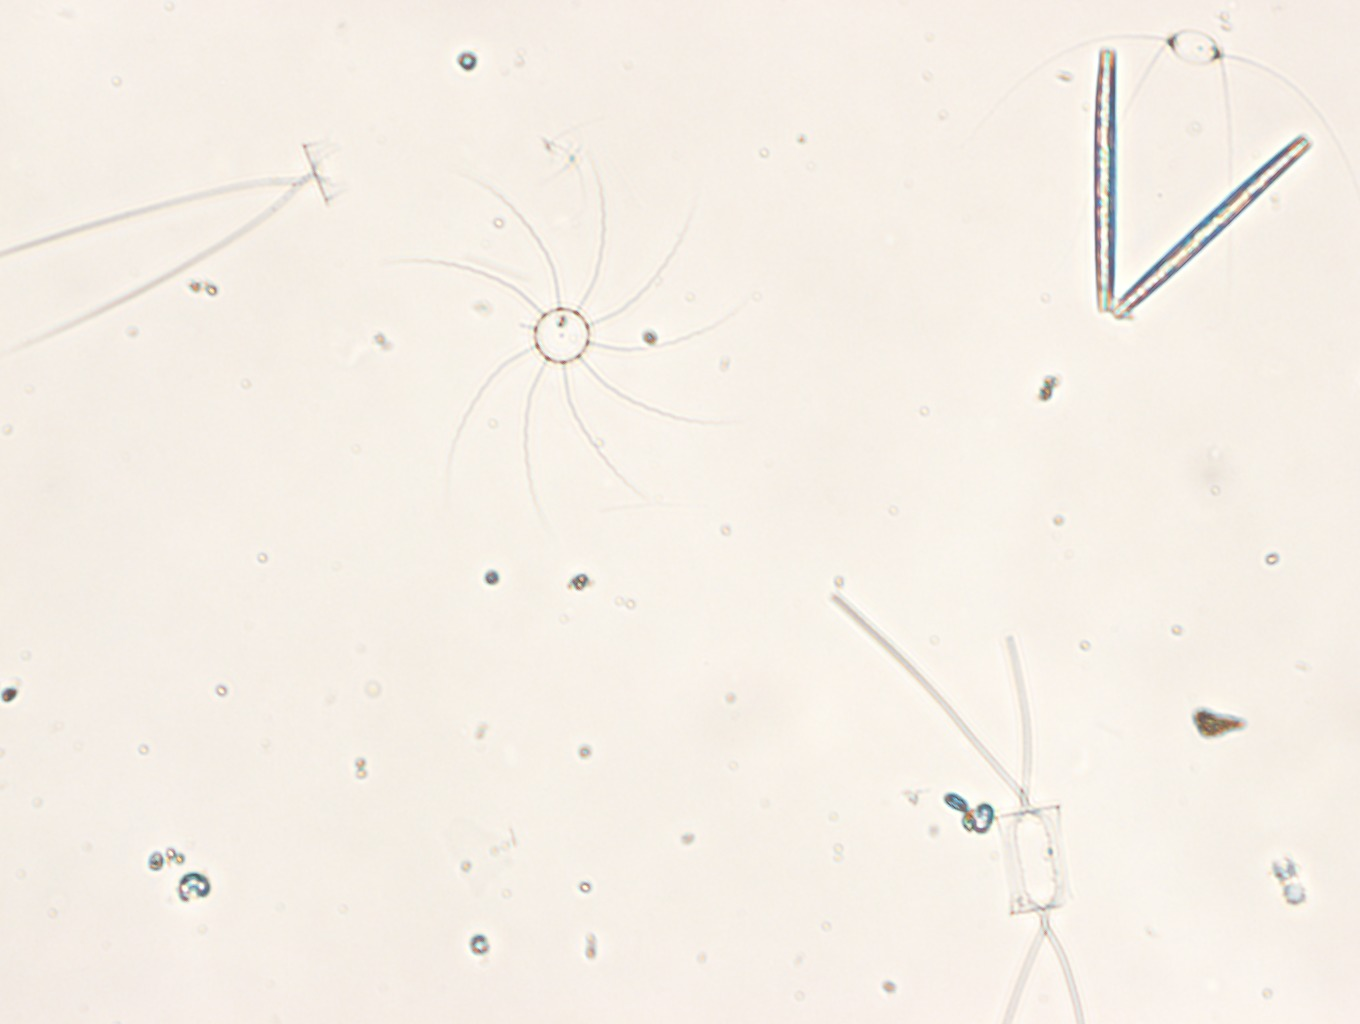bacteriastrum: (387, 143, 751, 508)
chaetoceros: (829, 599, 1086, 1024), (975, 26, 1360, 231), (1, 137, 347, 352)
thalassionema nitzschioides: (1091, 49, 1312, 323)
